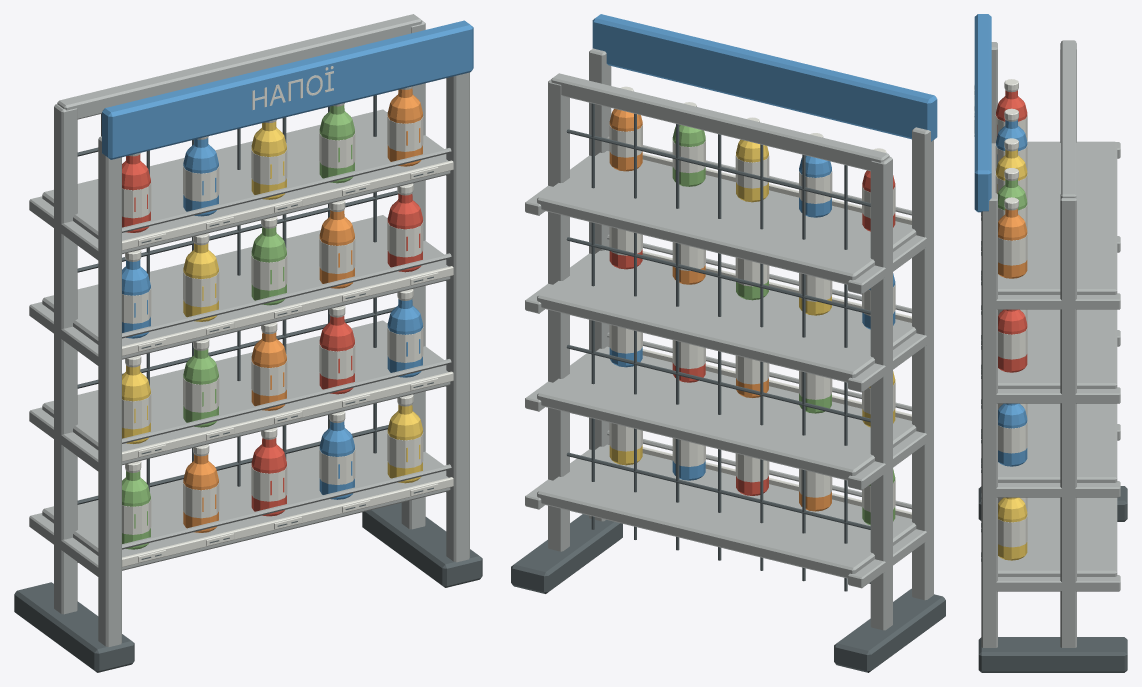
The model's file is Shelf_Drinks.fbx.
3 views of the same model, side by side, from view 1: azimuth 30°, elevation 25°; view 2: azimuth 150°, elevation 25°; view 3: azimuth 270°, elevation 25° (orthographic). The views are drawn at different scales.
Parts seen in each view (by area): view 1: Shelf_Drinks__LPCXFER, Shelf_Drinks__Header_wire__LPCXFER, Shelf_Drinks__Shelf_3__LPCXFER, Shelf_Drinks__Shelf_2__LPCXFER, Shelf_Drinks__Shelf_4__LPCXFER, Shelf_Drinks__Shelf_1__LPCXFER, Shelf_Drinks__Back_wire__LPCXFER, Shelf_Drinks_Item_3_F_4_bottle__LPCXFER, Shelf_Drinks_Item_1_F_4_bottle__LPCXFER, Shelf_Drinks_Item_2_F_5_bottle__LPCXFER, Shelf_Drinks_Item_1_F_2_bottle__LPCXFER, Shelf_Drinks_Item_2_F_2_bottle__LPCXFER (+16 smaller); view 2: Shelf_Drinks__LPCXFER, Shelf_Drinks__Shelf_4__LPCXFER, Shelf_Drinks__Shelf_3__LPCXFER, Shelf_Drinks__Shelf_2__LPCXFER, Shelf_Drinks__Shelf_1__LPCXFER, Shelf_Drinks__Header_wire__LPCXFER, Shelf_Drinks__Back_wire__LPCXFER, Shelf_Drinks_Item_4_F_3_bottle__LPCXFER, Shelf_Drinks_Item_4_F_2_bottle__LPCXFER, Shelf_Drinks_Item_4_F_5_bottle__LPCXFER, Shelf_Drinks_Item_4_F_4_bottle__LPCXFER, Shelf_Drinks_Item_1_F_3_bottle__LPCXFER (+12 smaller); view 3: Shelf_Drinks__LPCXFER, Shelf_Drinks__Shelf_4__LPCXFER, Shelf_Drinks__Shelf_1__LPCXFER, Shelf_Drinks__Shelf_2__LPCXFER, Shelf_Drinks__Shelf_3__LPCXFER, Shelf_Drinks__Header_wire__LPCXFER, Shelf_Drinks_Item_4_F_5_bottle__LPCXFER, Shelf_Drinks_Item_3_F_5_bottle__LPCXFER, Shelf_Drinks_Item_2_F_5_bottle__LPCXFER, Shelf_Drinks_Item_1_F_5_bottle__LPCXFER, Shelf_Drinks_Item_4_F_1_bottle__LPCXFER, Shelf_Drinks_Item_4_F_2_bottle__LPCXFER (+2 smaller).
Part boxes in pixels (<box>): Shelf_Drinks__LPCXFER: <box>14,14,482,672</box>; Shelf_Drinks__Header_wire__LPCXFER: <box>102,20,473,159</box>; Shelf_Drinks__Shelf_3__LPCXFER: <box>42,215,453,359</box>; Shelf_Drinks__Shelf_2__LPCXFER: <box>42,320,453,465</box>; Shelf_Drinks__Shelf_4__LPCXFER: <box>42,109,453,254</box>; Shelf_Drinks__Shelf_1__LPCXFER: <box>42,426,453,570</box>; Shelf_Drinks__Back_wire__LPCXFER: <box>77,95,398,562</box>; Shelf_Drinks_Item_3_F_4_bottle__LPCXFER: <box>319,200,355,288</box>; Shelf_Drinks_Item_1_F_4_bottle__LPCXFER: <box>319,411,355,499</box>; Shelf_Drinks_Item_2_F_5_bottle__LPCXFER: <box>387,289,423,377</box>; Shelf_Drinks_Item_1_F_2_bottle__LPCXFER: <box>183,444,219,532</box>; Shelf_Drinks_Item_2_F_2_bottle__LPCXFER: <box>183,338,219,427</box>; Shelf_Drinks__LPCXFER: <box>511,48,945,672</box>; Shelf_Drinks__Shelf_4__LPCXFER: <box>537,136,916,284</box>; Shelf_Drinks__Shelf_3__LPCXFER: <box>537,234,916,382</box>; Shelf_Drinks__Shelf_2__LPCXFER: <box>537,332,916,480</box>; Shelf_Drinks__Shelf_1__LPCXFER: <box>537,430,916,578</box>; Shelf_Drinks__Header_wire__LPCXFER: <box>592,14,937,141</box>; Shelf_Drinks__Back_wire__LPCXFER: <box>566,103,870,591</box>; Shelf_Drinks_Item_4_F_3_bottle__LPCXFER: <box>735,117,769,202</box>; Shelf_Drinks_Item_4_F_2_bottle__LPCXFER: <box>799,133,832,217</box>; Shelf_Drinks_Item_4_F_5_bottle__LPCXFER: <box>609,86,642,171</box>; Shelf_Drinks_Item_4_F_4_bottle__LPCXFER: <box>672,102,705,186</box>; Shelf_Drinks_Item_1_F_3_bottle__LPCXFER: <box>735,453,769,495</box>; Shelf_Drinks__LPCXFER: <box>978,40,1127,672</box>; Shelf_Drinks__Shelf_4__LPCXFER: <box>981,141,1117,294</box>; Shelf_Drinks__Shelf_1__LPCXFER: <box>981,434,1117,576</box>; Shelf_Drinks__Shelf_2__LPCXFER: <box>981,340,1117,482</box>; Shelf_Drinks__Shelf_3__LPCXFER: <box>981,246,1117,388</box>; Shelf_Drinks__Header_wire__LPCXFER: <box>974,14,991,212</box>; Shelf_Drinks_Item_4_F_5_bottle__LPCXFER: <box>998,197,1027,278</box>; Shelf_Drinks_Item_3_F_5_bottle__LPCXFER: <box>998,309,1027,372</box>; Shelf_Drinks_Item_2_F_5_bottle__LPCXFER: <box>998,403,1027,466</box>; Shelf_Drinks_Item_1_F_5_bottle__LPCXFER: <box>998,497,1027,560</box>; Shelf_Drinks_Item_4_F_1_bottle__LPCXFER: <box>995,79,1027,140</box>; Shelf_Drinks_Item_4_F_2_bottle__LPCXFER: <box>995,108,1027,170</box>.
Bounding box in the file's own units: 154 × 212 × 59.15.
